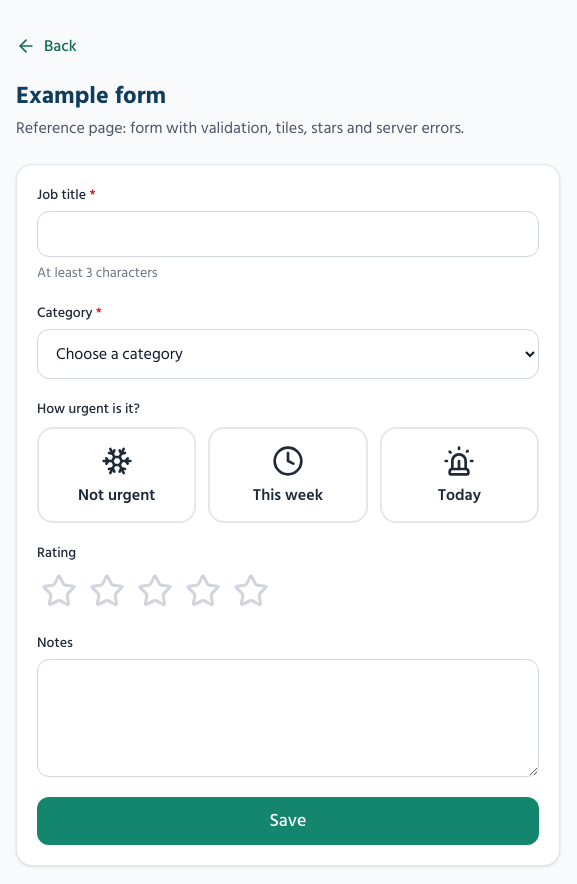
Test: ExampleFormPage › saves a valid form and shows a success message
In the field labelled "Job title *": [288, 234] box [37,211,539,257], type "Fix kitchen tap"
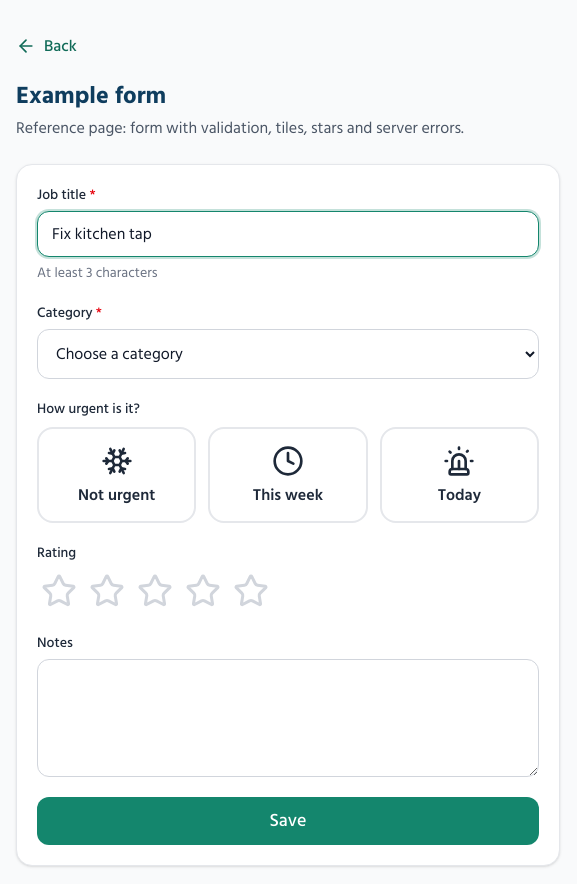
Select "Plumbing" in the dropdown labelled "Category *": [288, 354] box [37,329,539,379]
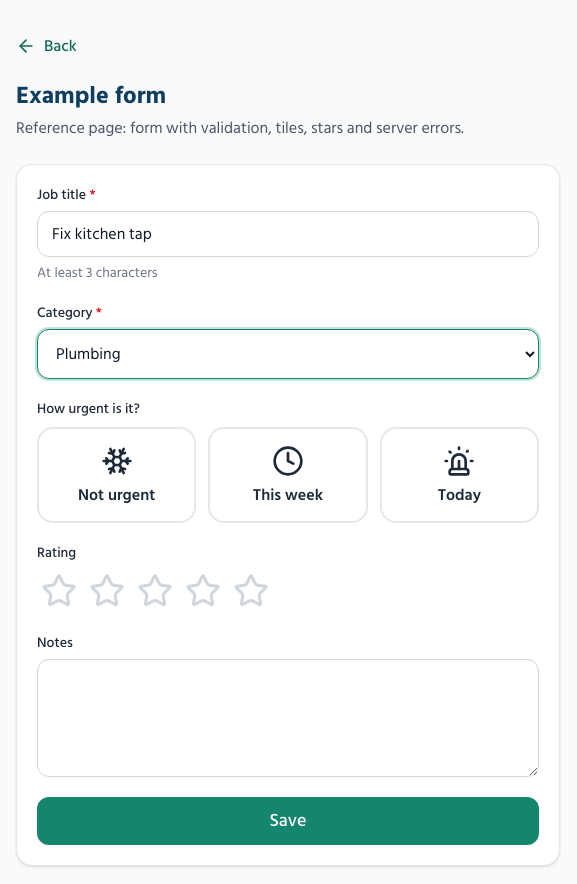
Click the radio button labelled "Today": [459, 475] box [380,427,539,523]
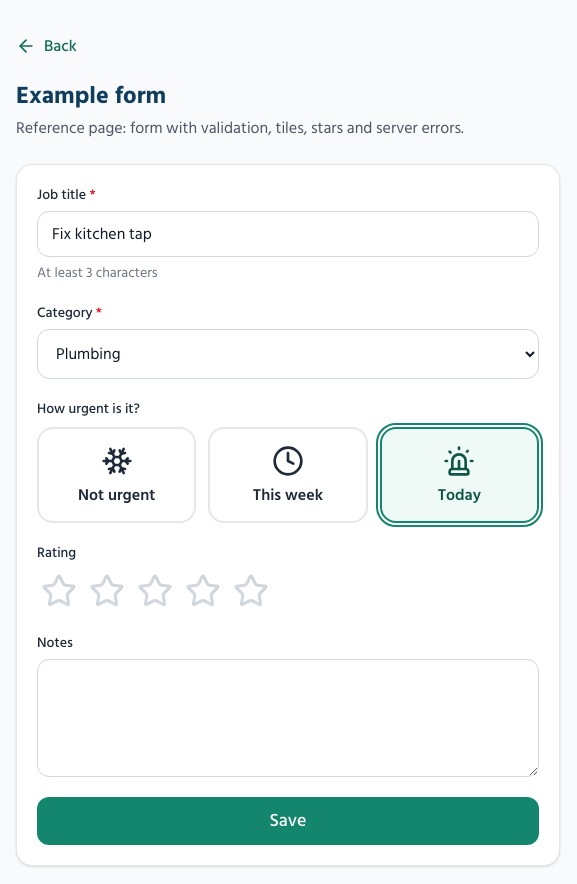
Click the radio button named "4 stars": [203, 591] box [181,569,225,613]
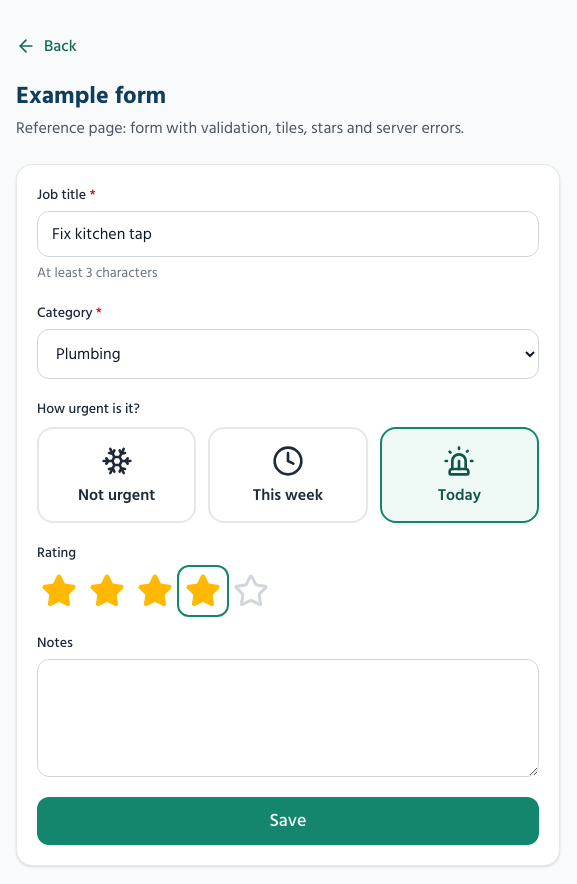
Click the button "Save": [288, 821] box [37,797,539,845]
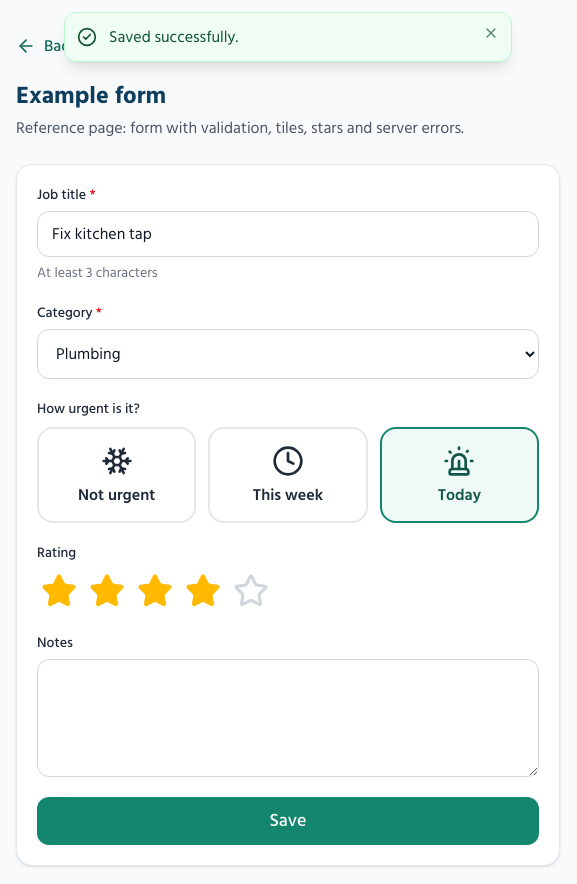
Check: the text "Saved successfully." is shown, box [109,24,238,50]
